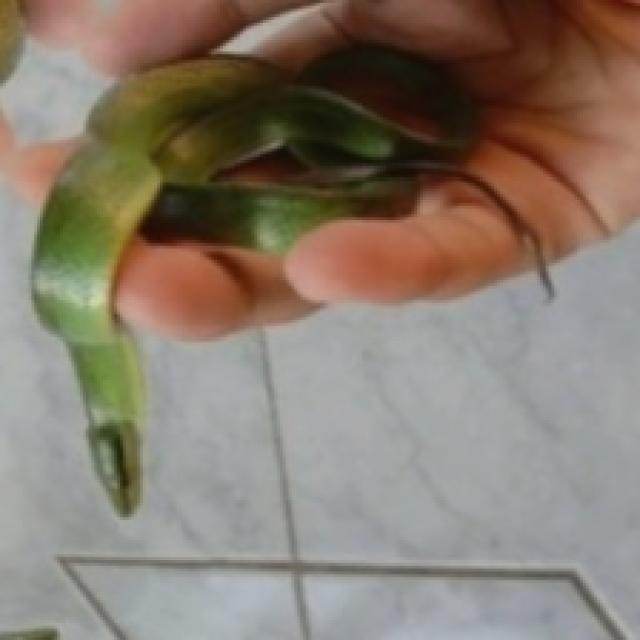red-tailed green ratsnake: (32, 46, 475, 509)
